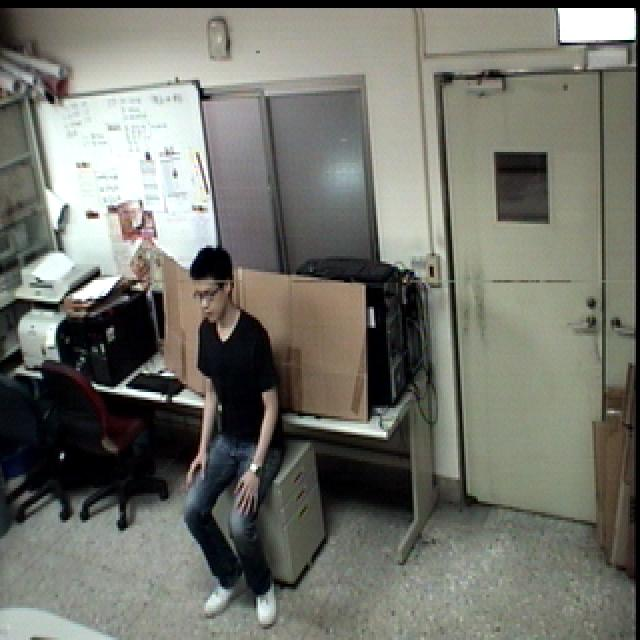sit: (172, 239, 286, 632)
